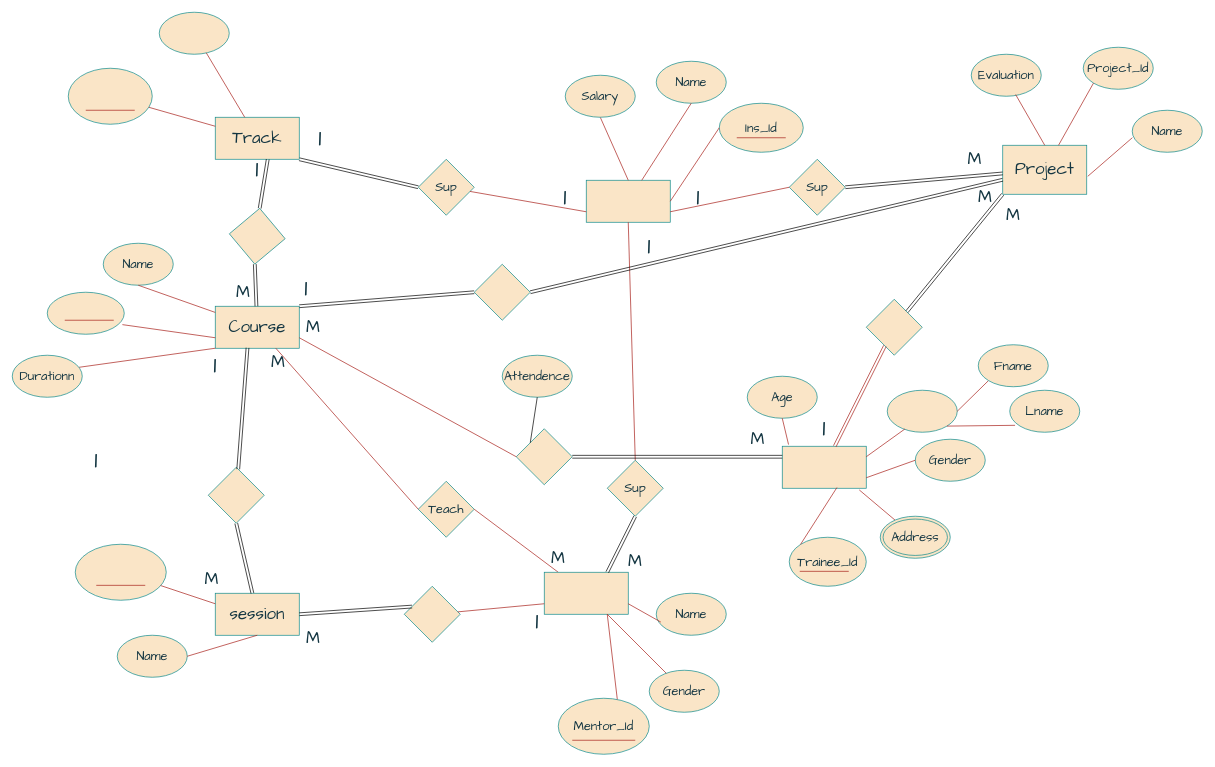
This 1215x767 diagram has some shape labels left out. The centre of each missing label's shape, as x and y in pixels:
"Consist" belongs at (236,495).
"Crs_Id" belongs at (85,313).
"Do" belongs at (894,327).
"Enroll" belongs at (544,456).
"Fullname" belongs at (922,411).
"Give" belongs at (432,614).
"Has" belongs at (502,292).
"Have" belongs at (257,236).
"Instructor" belongs at (628,201).
"Mentor" belongs at (586,593).
"Seesion_Id" belongs at (120,572).
"Track_Id" belongs at (110,96).
"TrackName" belongs at (194,33).
"Trainee" belongs at (824,467).
